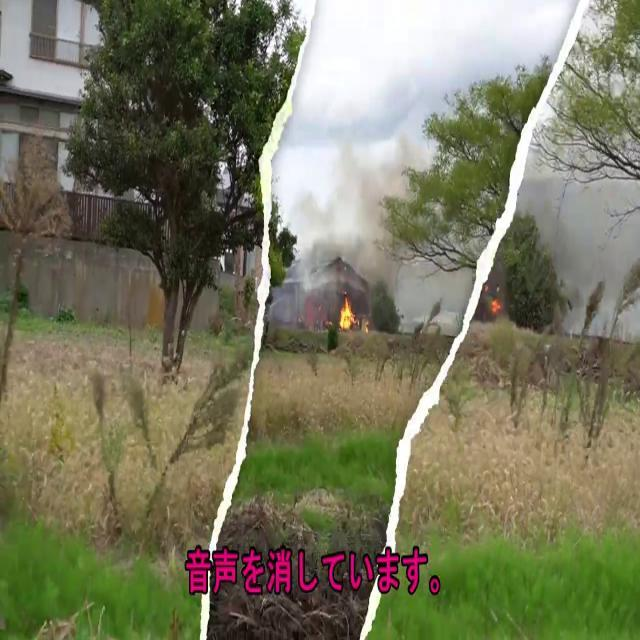Fire: (336, 288, 358, 338)
